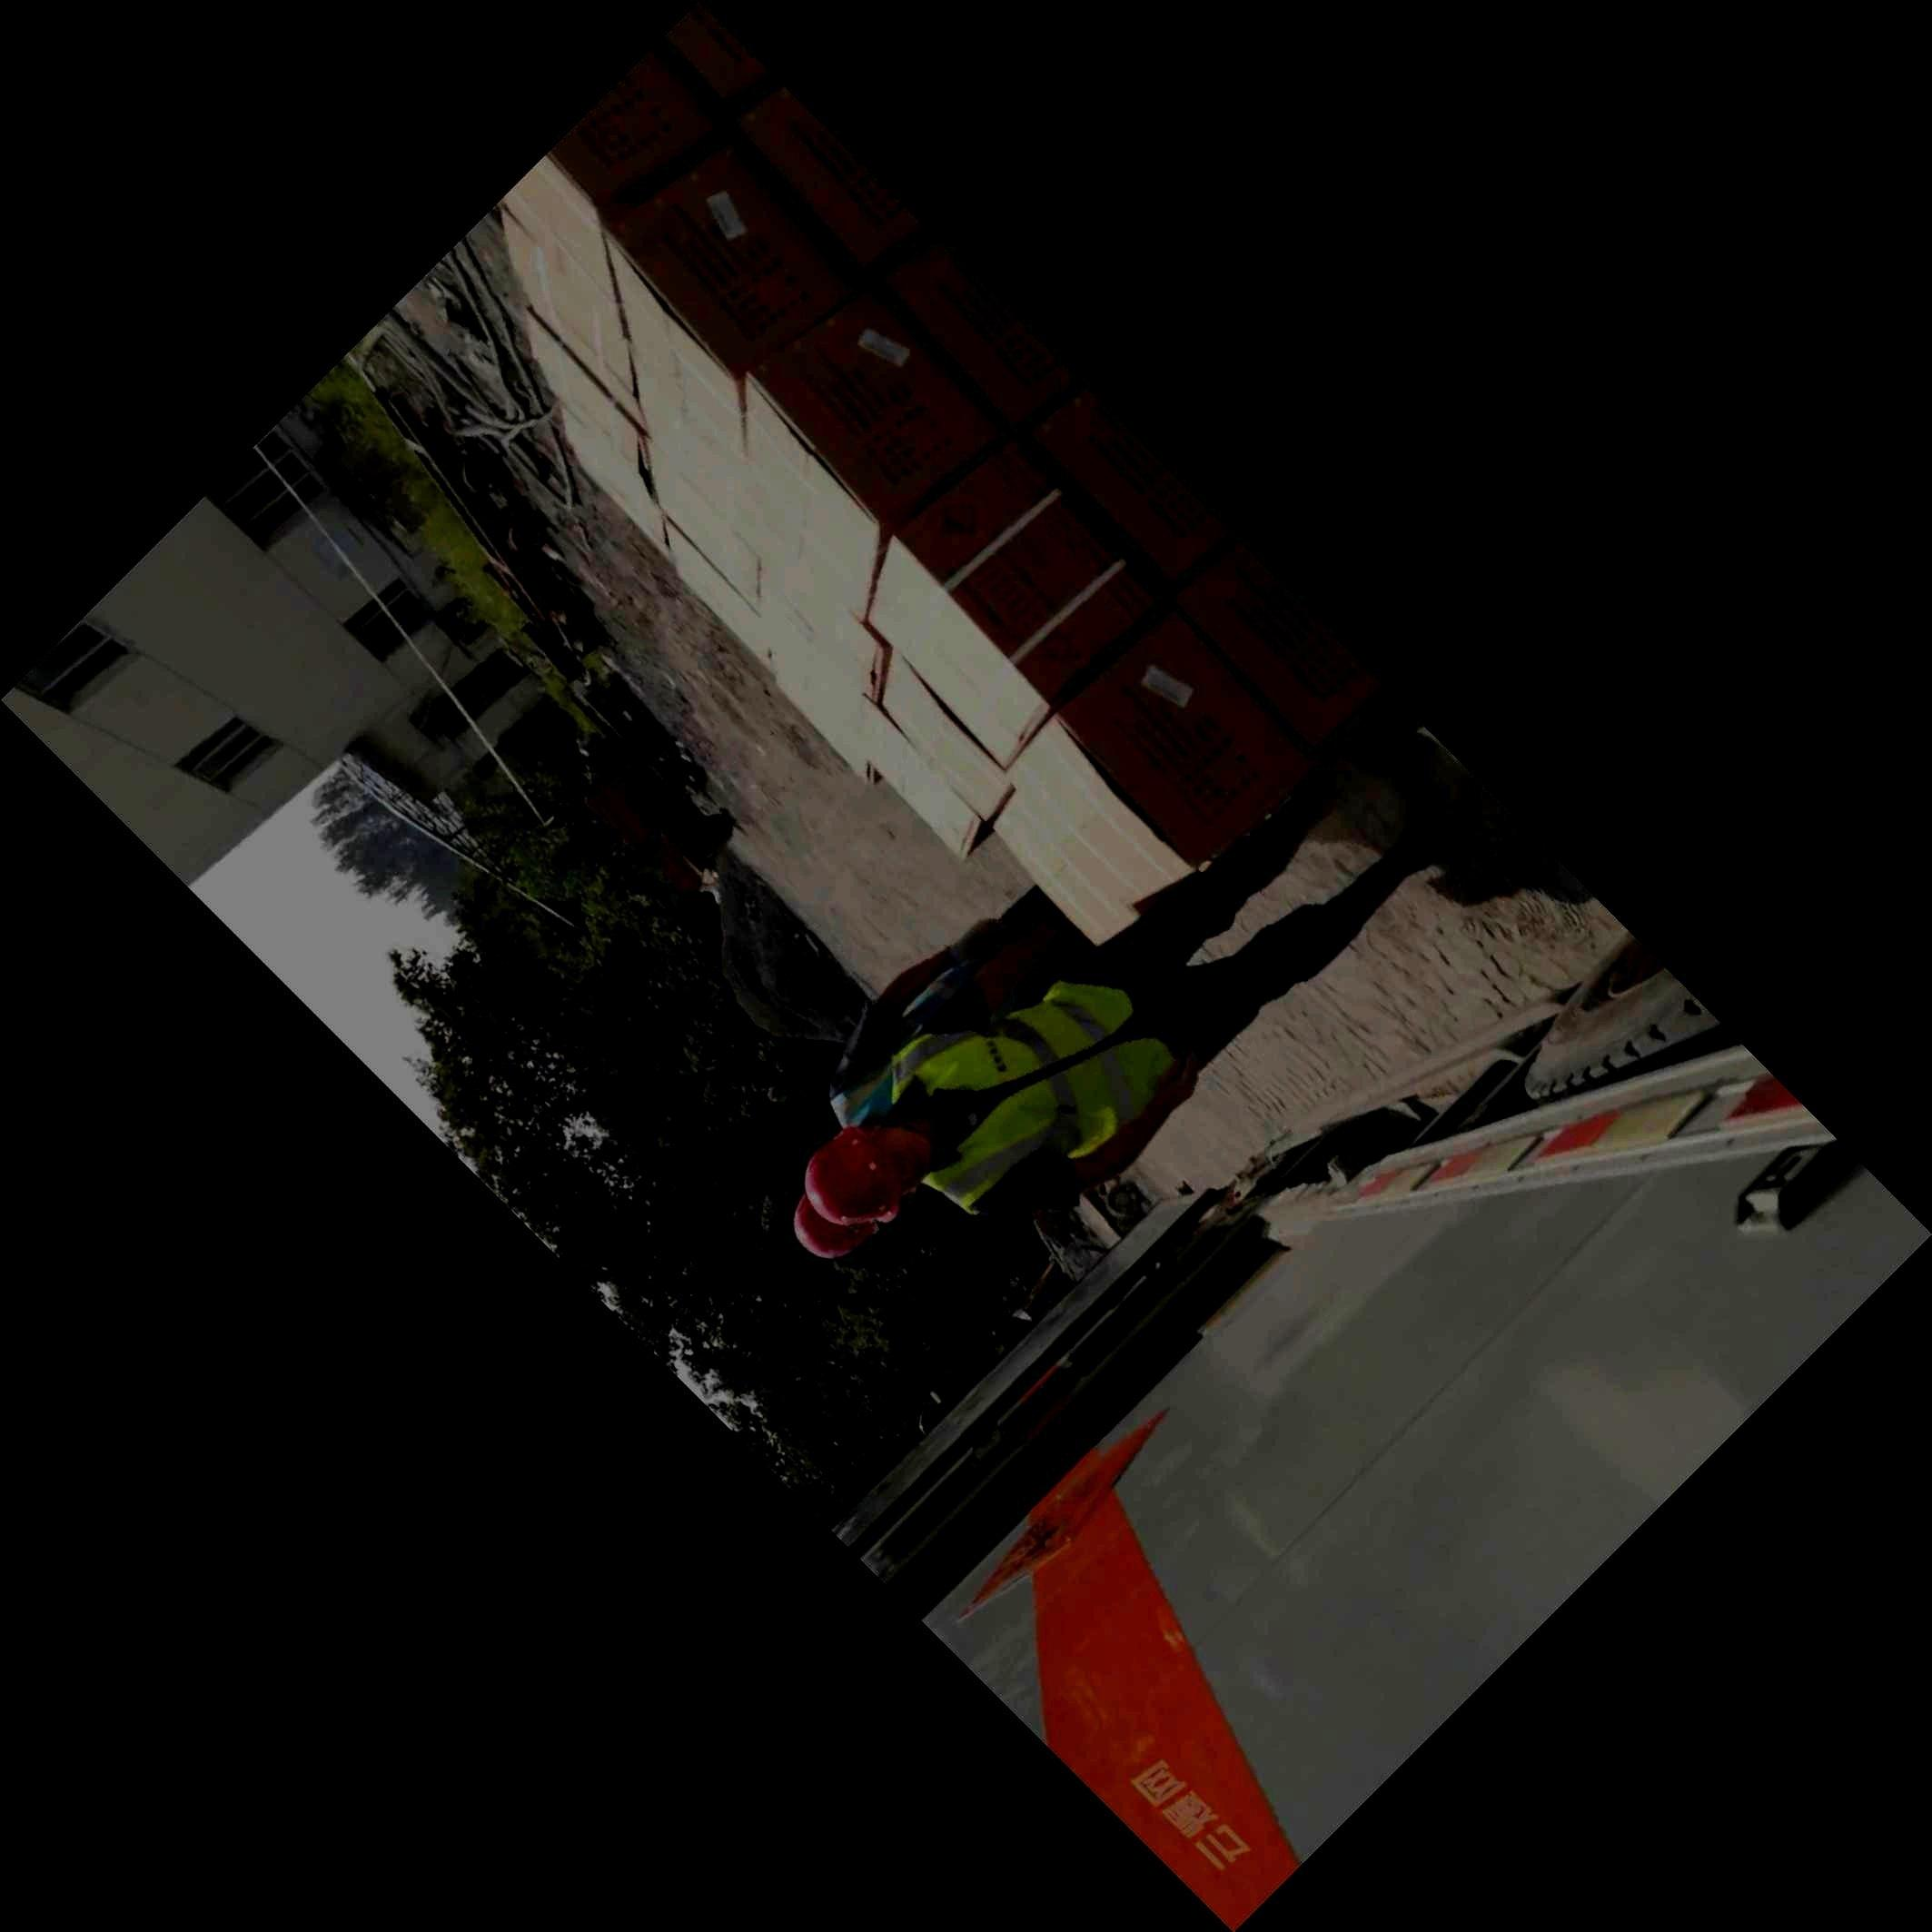helmet: (803, 1120, 932, 1226), (793, 1192, 879, 1258)
